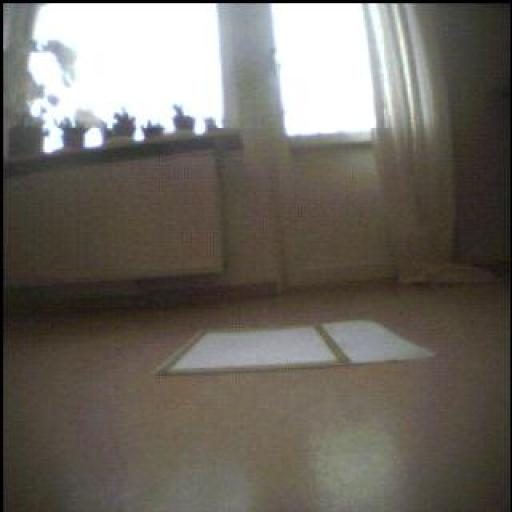Pad: (156, 321, 435, 375)
